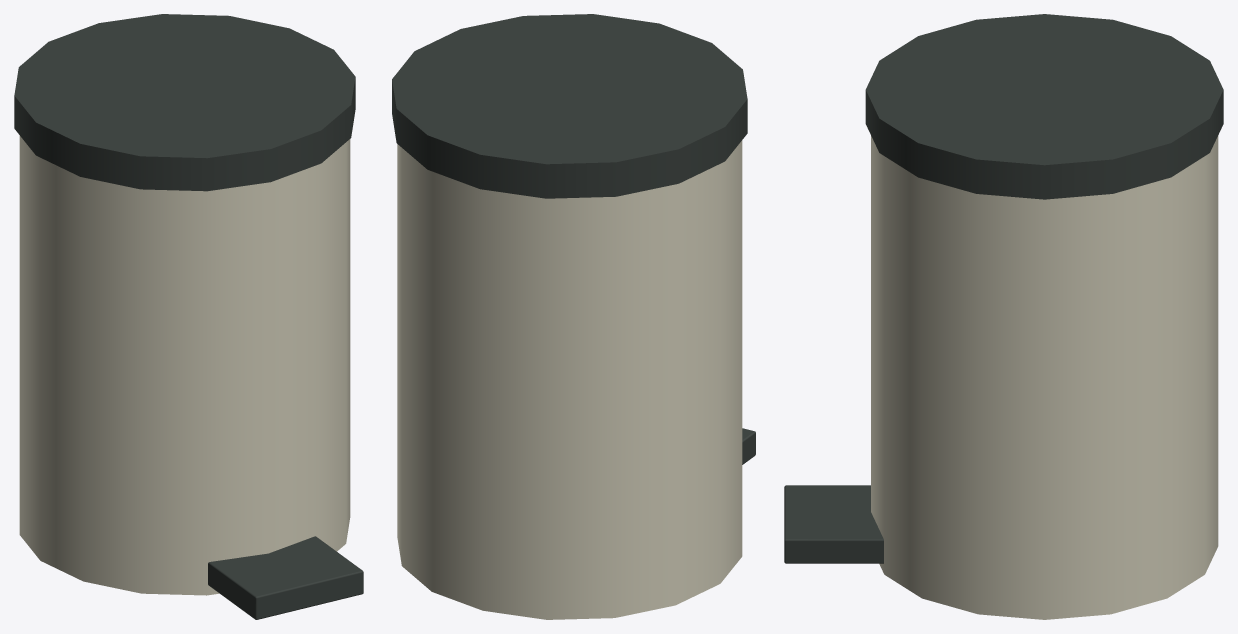
File: field-medicine-and-recovery-waste-foot-bin-0f925be1__3070.glb
3 views of the same model, side by side, from view 1: azimuth 30°, elevation 25°; view 2: azimuth 150°, elevation 25°; view 3: azimuth 270°, elevation 25° (orthographic). The views are drawn at different scales.
Parts seen in each view (by area): view 1: waste-foot-bin, pedal/dark; view 2: waste-foot-bin; view 3: waste-foot-bin, pedal/dark.
Part boxes in pixels (x1,y1,x2,y2): waste-foot-bin: (14,14,355,595); pedal/dark: (208,536,363,619); waste-foot-bin: (392,14,747,619); waste-foot-bin: (865,14,1223,619); pedal/dark: (784,485,883,563).
Size of the model in its own units: 0.33 by 0.465 by 0.405.
